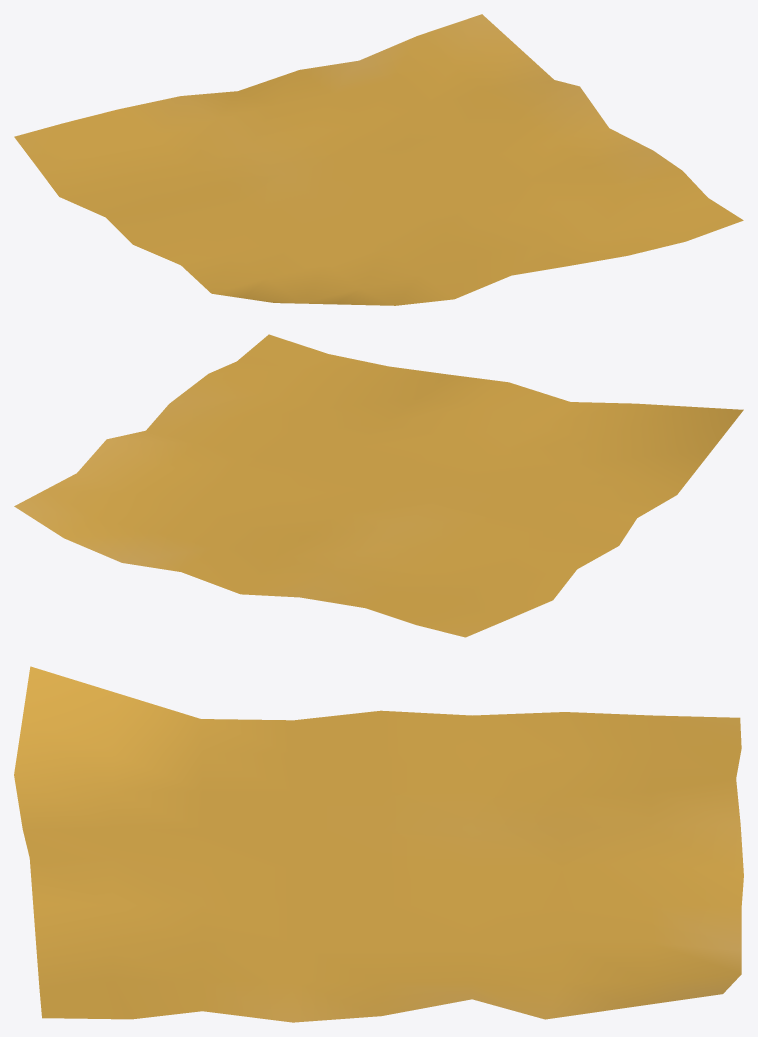
Rendered from Brunch-Butter-Paper.fbx.
3 renders of one model, top to bottom at view 1: azimuth 30°, elevation 25°; view 2: azimuth 150°, elevation 25°; view 3: azimuth 270°, elevation 25°, orthographic. The views are drawn at different scales.
Parts seen in each view (by area): view 1: Brunch-Butter-Paper; view 2: Brunch-Butter-Paper; view 3: Brunch-Butter-Paper.
Part boxes in pixels (x1=…): Brunch-Butter-Paper: x1=14, y1=14, x2=743, y2=305; Brunch-Butter-Paper: x1=14, y1=334, x2=743, y2=637; Brunch-Butter-Paper: x1=14, y1=666, x2=743, y2=1022.
Bounding box in the file's own units: 1394 × 121 × 1368.
